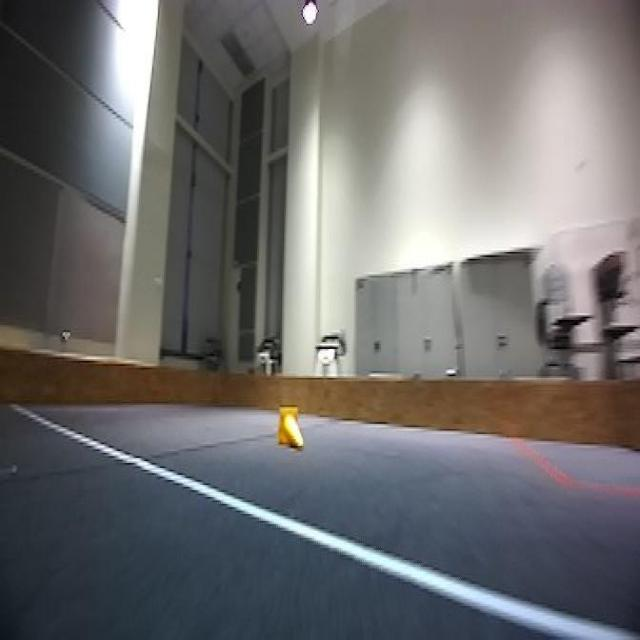frc_cone: (276, 410, 302, 450)
